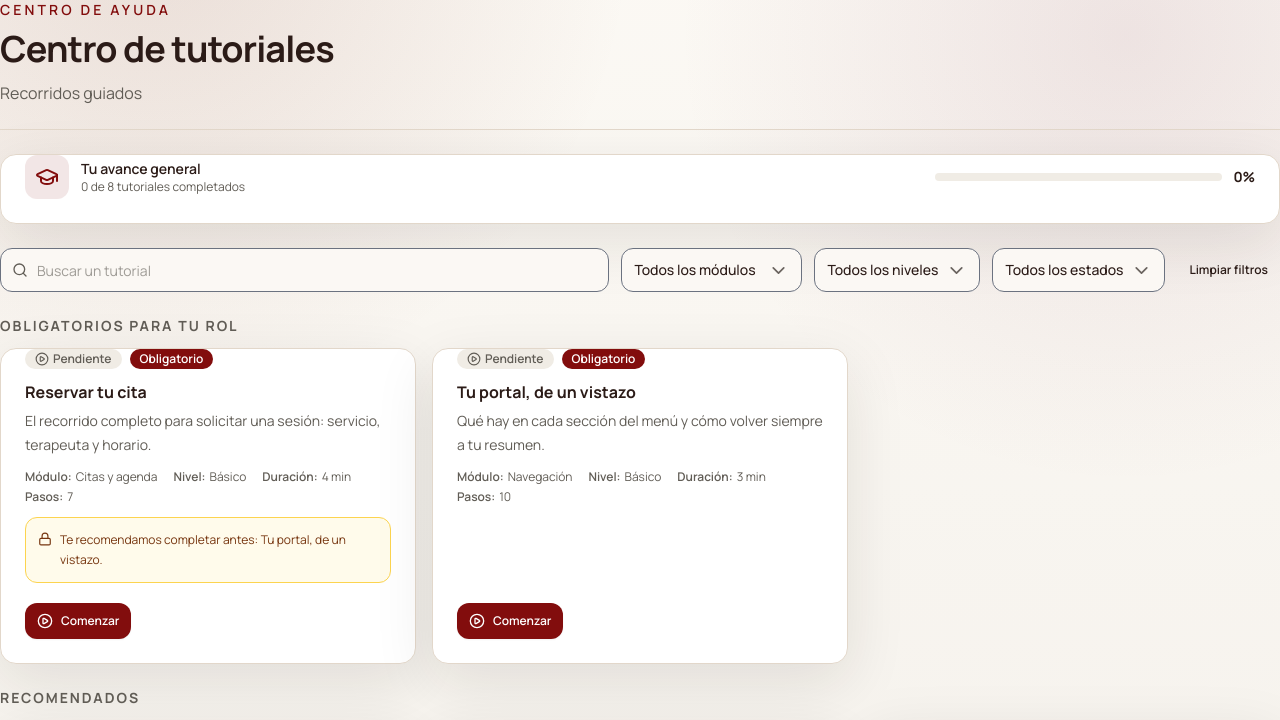
Centro de tutoriales › filtra por estado y muestra el vacío cuando nada coincide
Expected: the heading "Tu portal, de un vistazo" is shown, [457,381,636,403]
Select "Completados" in the dropdown named "Filtrar por estado" at (1079, 270), box [992,248,1165,292]
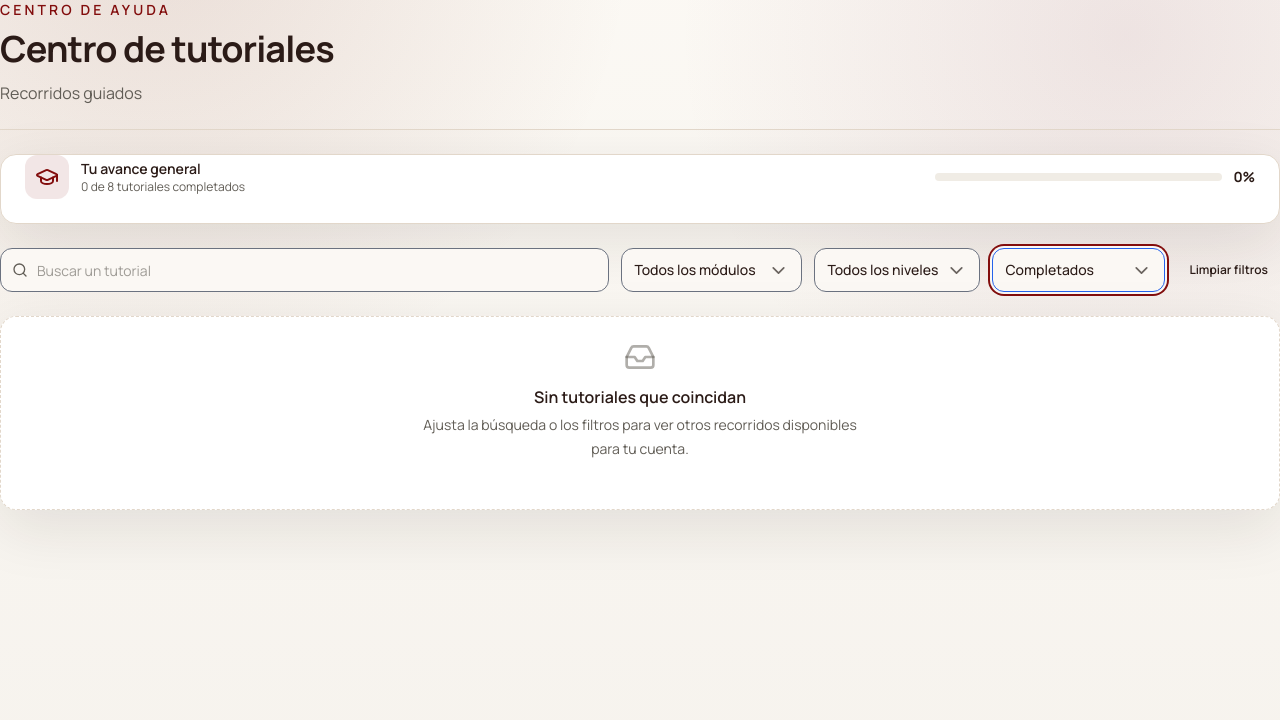
Result: the text "Sin tutoriales que coincidan" is shown at [534,386,746,408]
